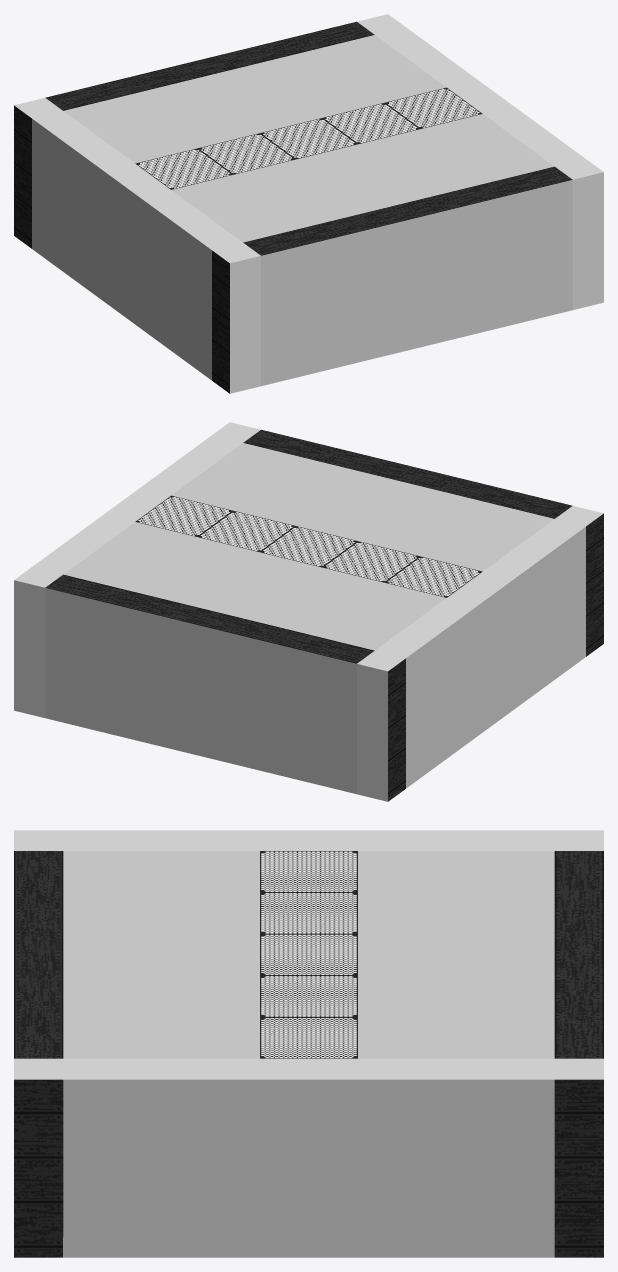
File: Cube3x3WithLamps.fbx
The picture shows the model from 3 angles, top to bottom: view 1: azimuth 30°, elevation 25°; view 2: azimuth 150°, elevation 25°; view 3: azimuth 270°, elevation 25°; orthographic projection. The views are drawn at different scales.
Visible parts, largest first — view 1: Cube.010; view 2: Cube.010; view 3: Cube.010.
Part boxes in pixels (bbox=[...]): Cube.010: bbox=[14, 14, 603, 393]; Cube.010: bbox=[14, 422, 603, 801]; Cube.010: bbox=[14, 830, 603, 1257].
Size of the model in its own units: 1200 by 400 by 1200.
